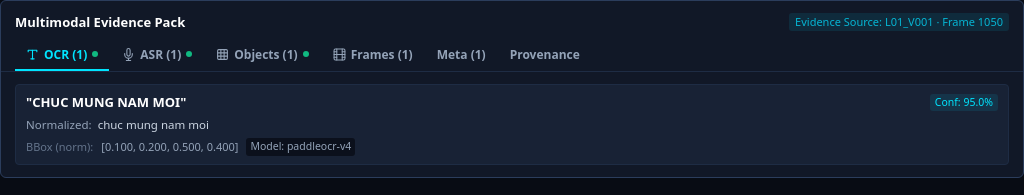
it: T034 / T035 Evidence Rendering & Provenance UI › renders Object detections with label and bbox
Click the tab with test id "tab-evidence-object" at [262, 55], box [205,40,320,71]
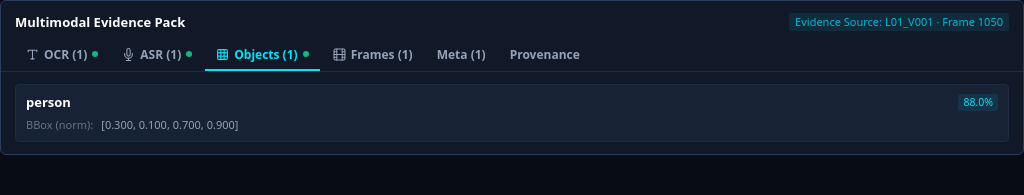
Result: the element with test id "pane-evidence-object" is shown at [15,84,1009,142]
Result: the text "person" is shown at [26,93,71,112]
Result: the text "88.0%" is shown at [958,94,998,111]
